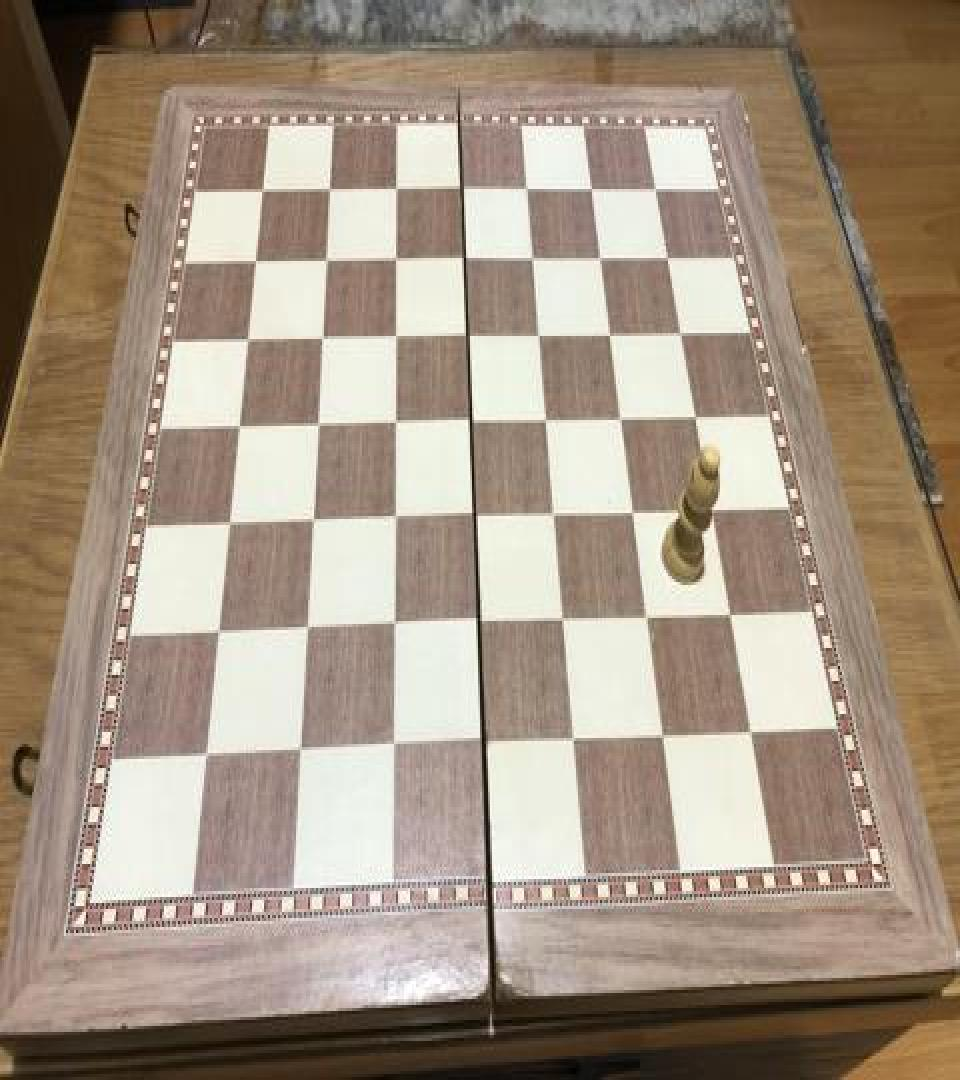xcorner: (381, 610, 405, 647), (651, 718, 675, 755), (472, 727, 496, 764), (646, 171, 670, 207), (582, 171, 606, 207), (385, 174, 409, 210), (319, 174, 343, 210), (252, 176, 276, 212), (658, 240, 682, 276), (591, 242, 615, 278), (523, 242, 547, 278), (454, 243, 478, 279), (385, 244, 409, 280), (315, 246, 339, 282), (244, 248, 268, 284), (671, 315, 695, 351), (600, 316, 624, 352), (529, 318, 553, 354), (457, 321, 481, 357), (384, 322, 408, 358), (311, 324, 335, 360), (236, 326, 260, 362), (685, 399, 709, 435), (611, 402, 635, 438), (536, 404, 560, 440), (460, 406, 484, 442), (383, 408, 407, 444), (306, 410, 330, 446), (701, 494, 725, 530), (623, 495, 647, 531), (543, 498, 567, 534), (463, 501, 487, 537), (382, 504, 406, 540), (300, 507, 324, 543), (218, 510, 242, 546), (719, 597, 743, 633), (636, 600, 660, 636), (552, 604, 576, 640), (467, 608, 491, 644), (295, 615, 319, 651), (207, 618, 231, 654), (739, 714, 763, 750), (562, 723, 586, 759), (380, 732, 404, 768), (288, 736, 312, 772), (194, 741, 218, 777), (517, 173, 541, 208), (451, 173, 475, 208), (228, 413, 252, 448)
